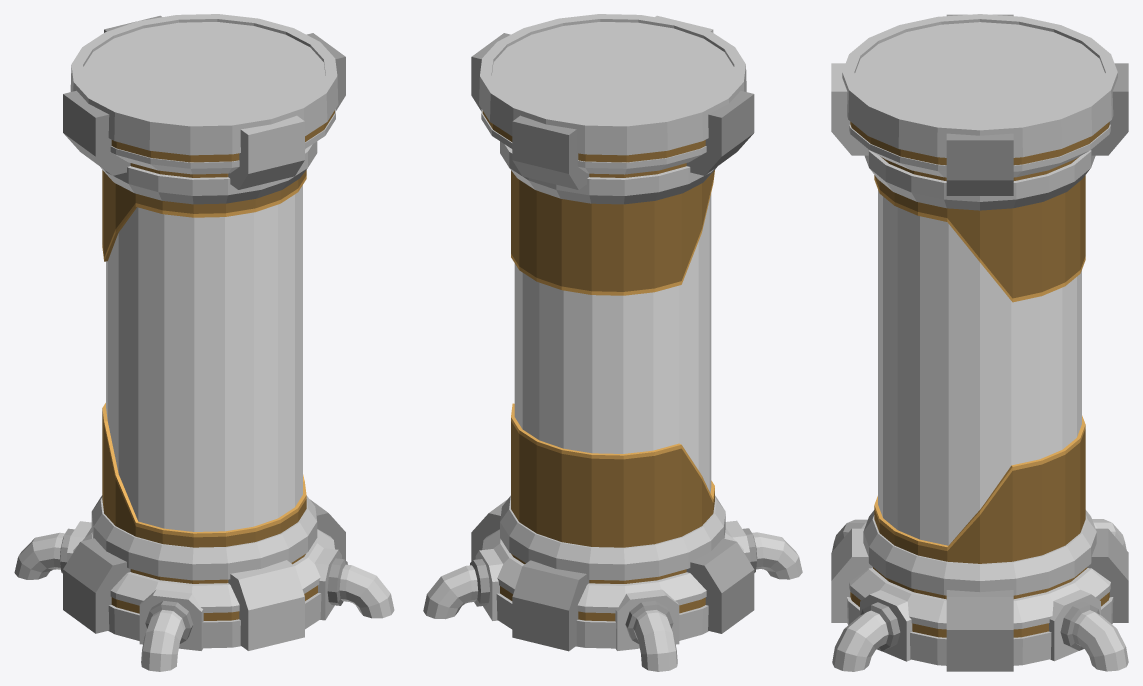
File: sf_pod.glb
3 views of the same model, side by side, from view 1: azimuth 30°, elevation 25°; view 2: azimuth 150°, elevation 25°; view 3: azimuth 270°, elevation 25° (orthographic). The views are drawn at different scales.
Visible parts, largest first — view 1: Props_Pod; view 2: Props_Pod; view 3: Props_Pod.
Boxes of the visible parts, <box> form: Props_Pod: <box>14,14,394,671</box>; Props_Pod: <box>423,14,802,671</box>; Props_Pod: <box>831,14,1128,671</box>.
Bounding box in the file's own units: 1.81 × 3.61 × 1.81.
